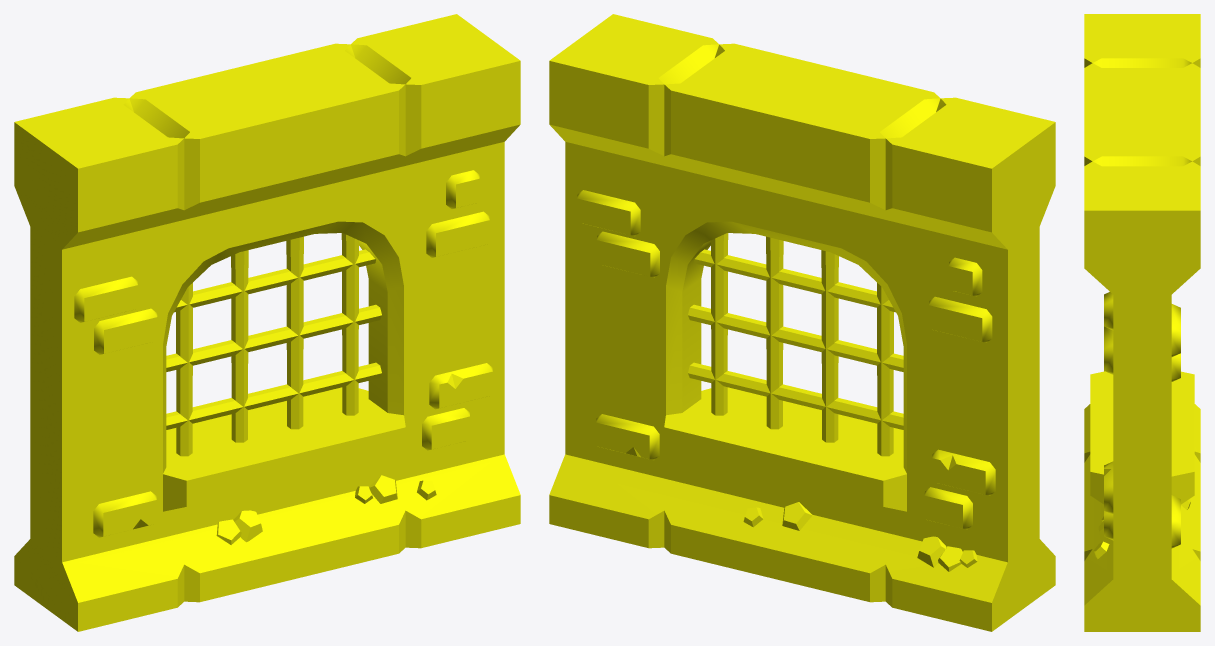
File: kaykit-wall-archedwindow-gated.glb
3 renders of one model, left to right at view 1: azimuth 30°, elevation 25°; view 2: azimuth 150°, elevation 25°; view 3: azimuth 270°, elevation 25°, orthographic. The views are drawn at different scales.
Visible parts, largest first — view 1: wall_archedwindow_gated; view 2: wall_archedwindow_gated; view 3: wall_archedwindow_gated.
Boxes of the visible parts, <box> form: wall_archedwindow_gated: <box>14,14,520,631</box>; wall_archedwindow_gated: <box>549,14,1055,631</box>; wall_archedwindow_gated: <box>1084,14,1200,631</box>.
Size of the model in its own units: 4 by 4 by 1.
